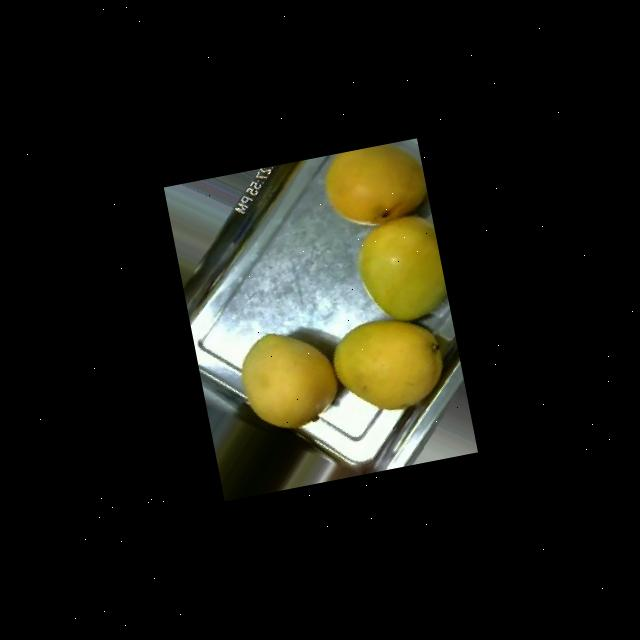Mango: (325, 310, 450, 420), (232, 322, 343, 436), (349, 211, 449, 329), (317, 138, 430, 234)
